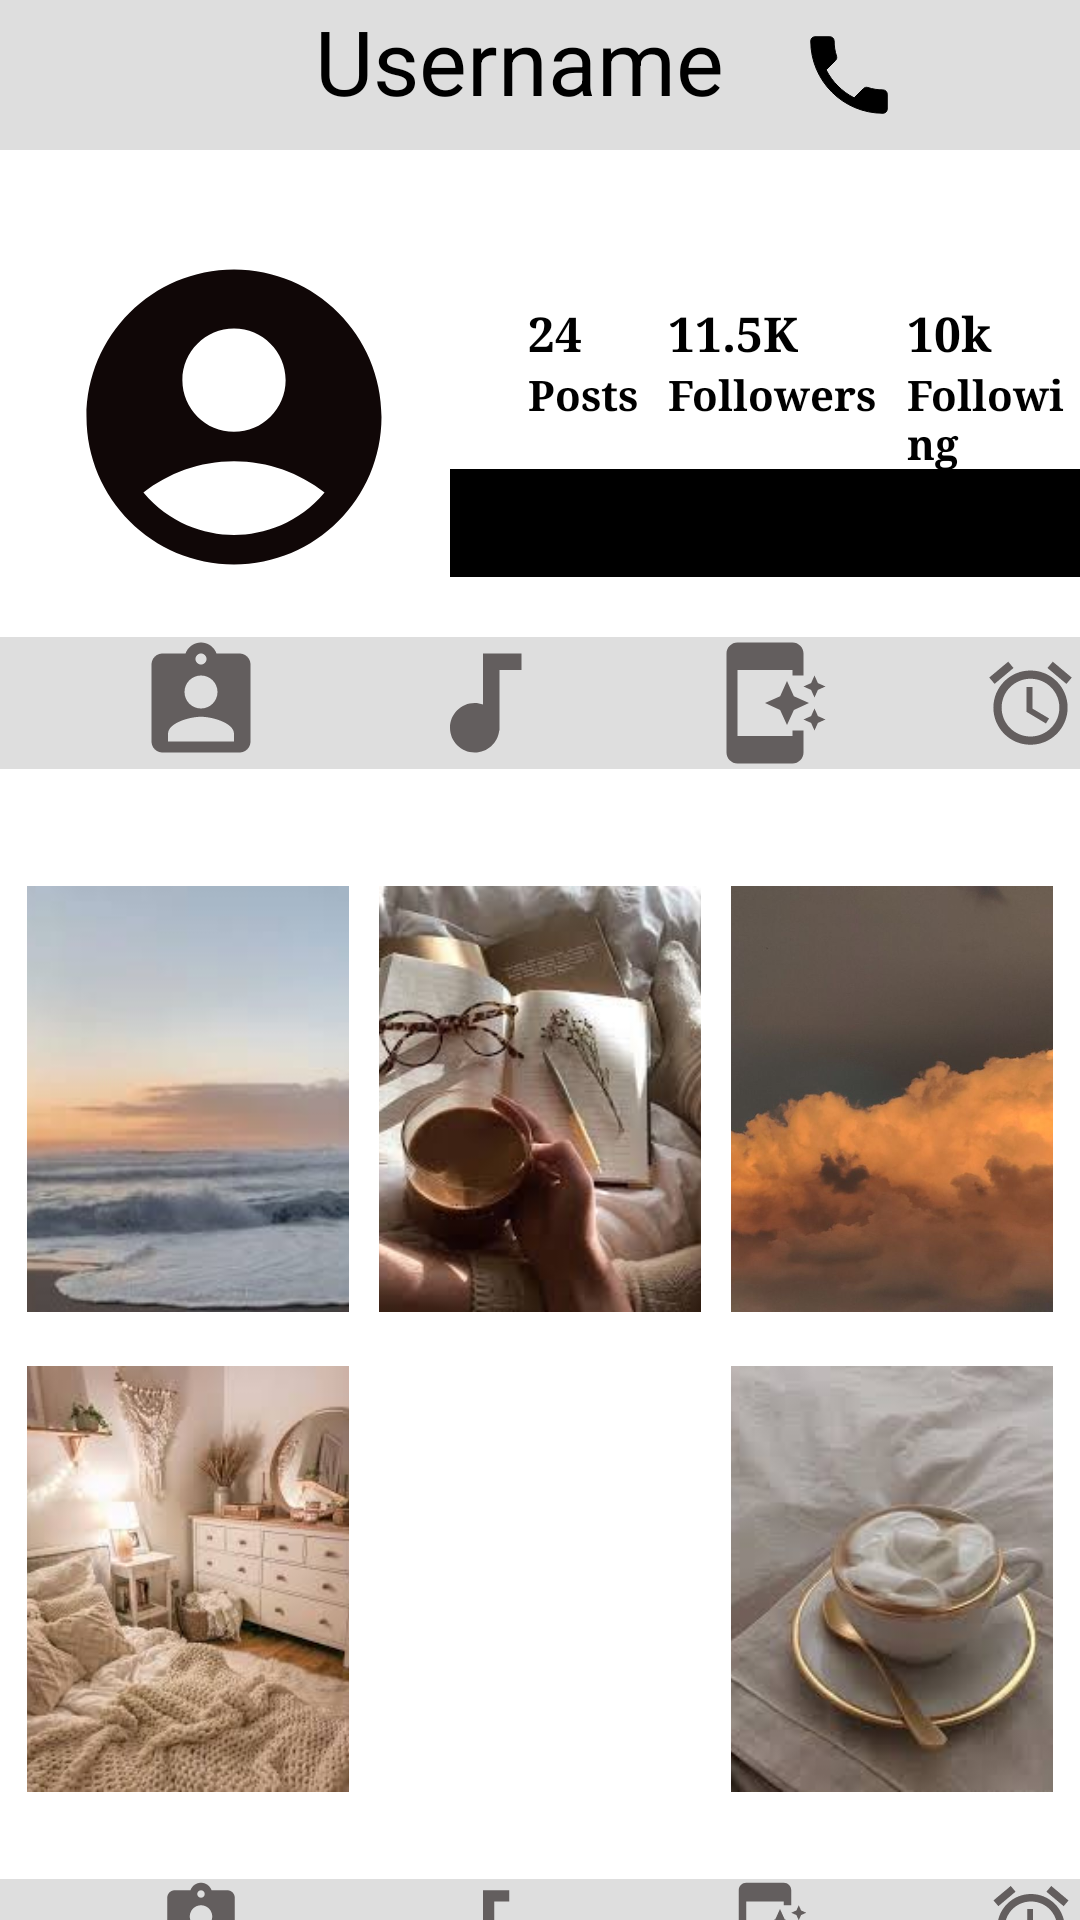

Icon bounding boxes for this 1080px×1920px phone screenshot, format (left=x1, top=y1, right=x2, bottom=y2):
profilepic: (left=86, top=269, right=382, bottom=565)
